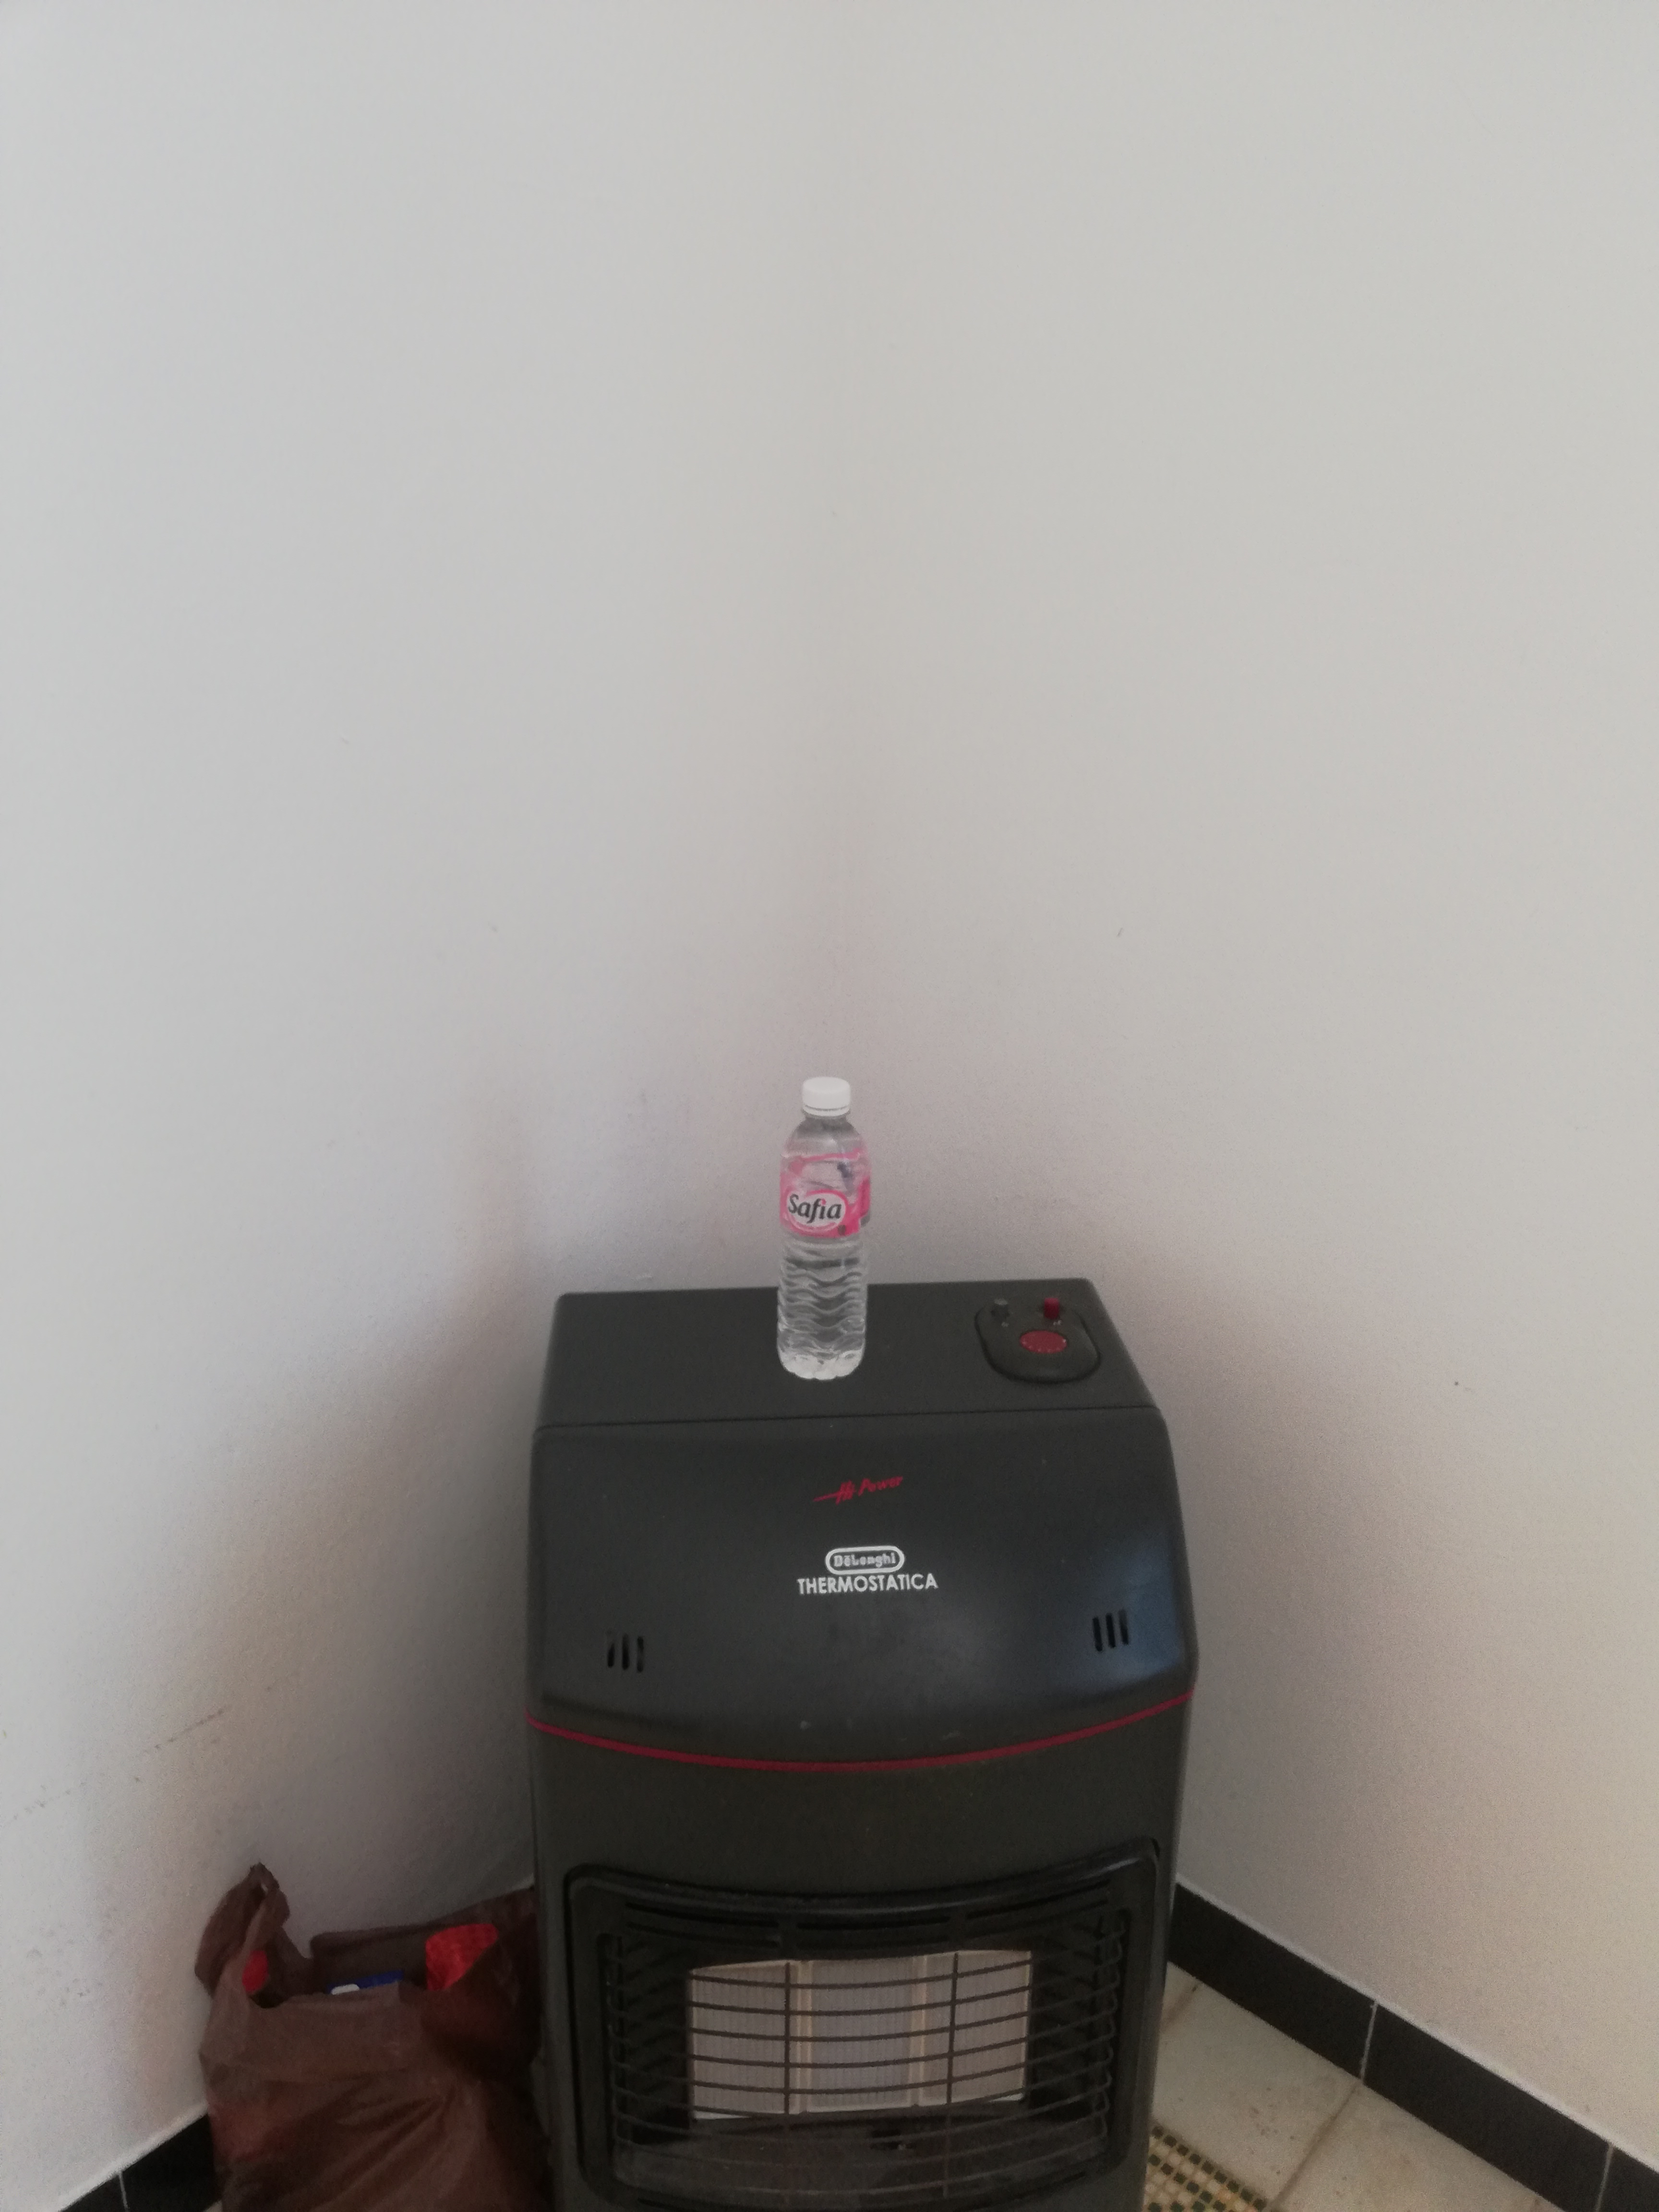Eau safia: (767, 1082, 873, 1383)
